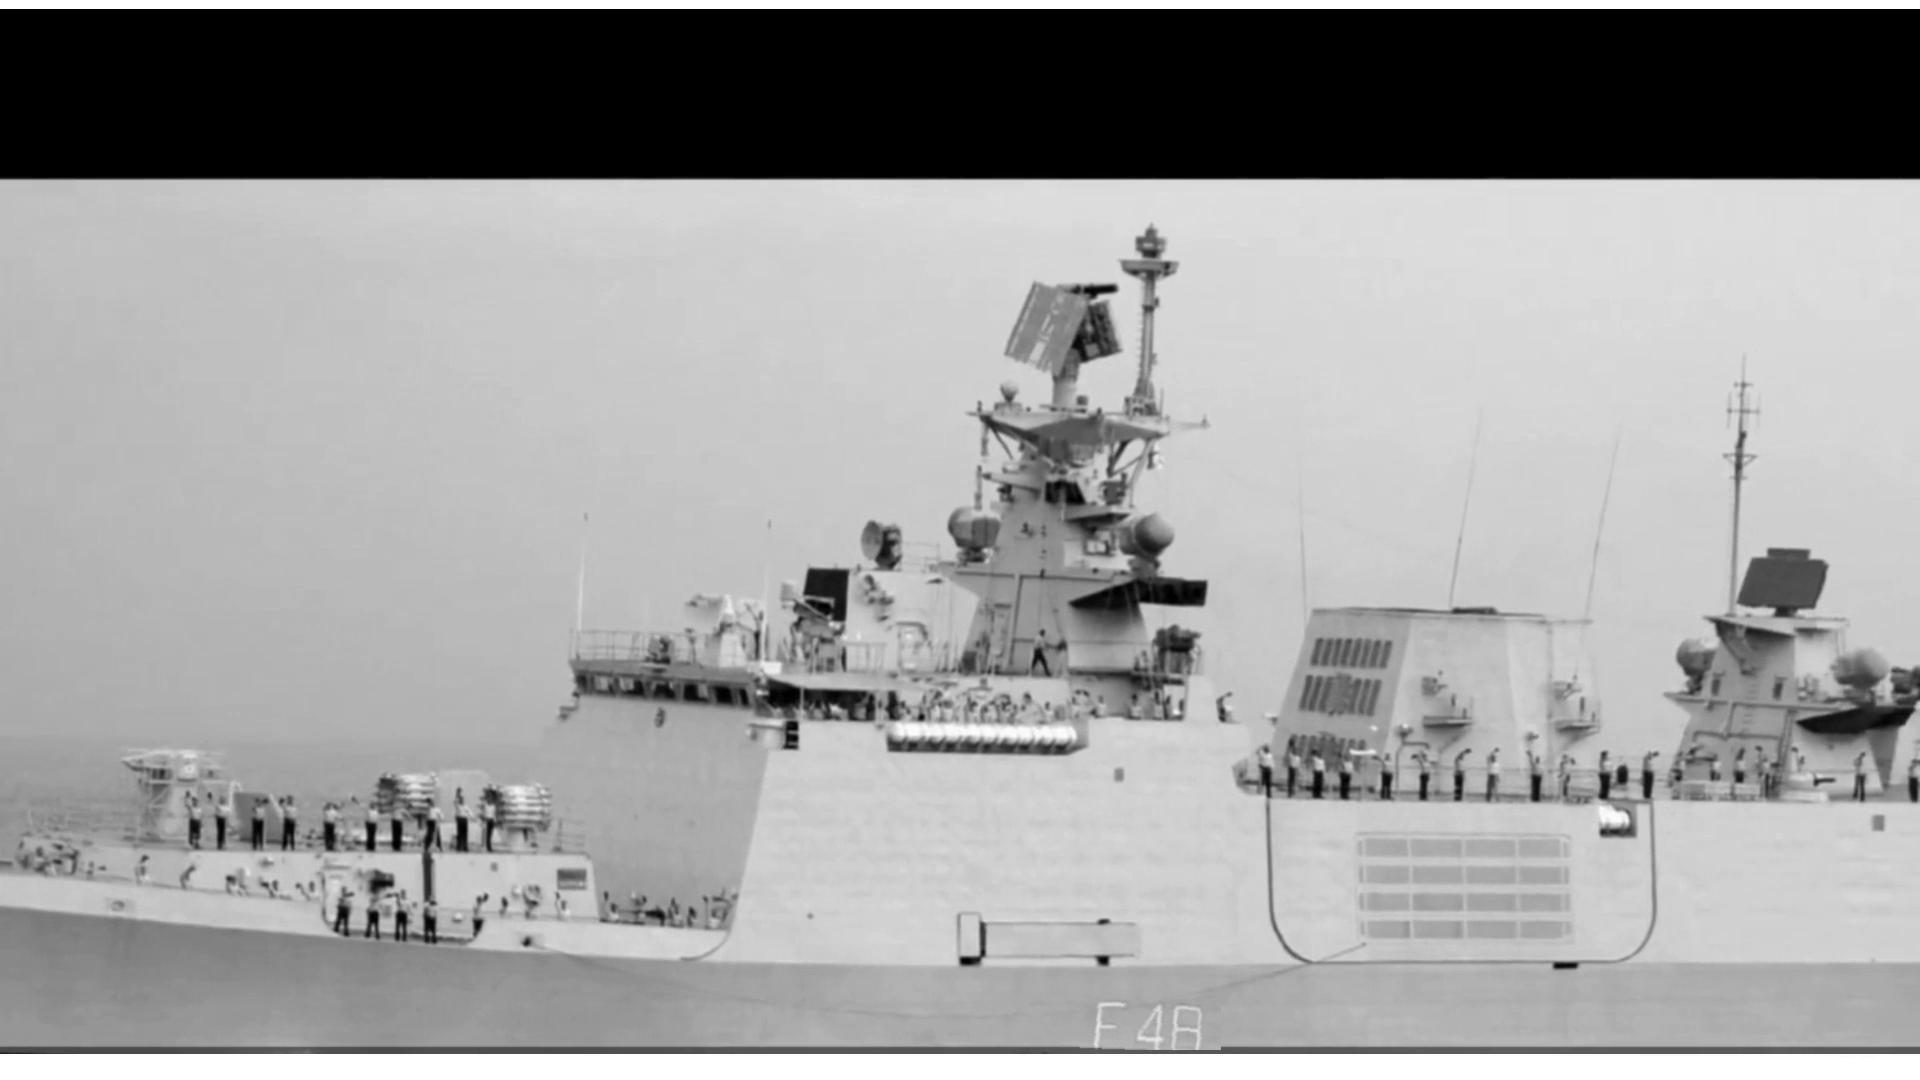OCR: (1063, 989, 1221, 1051)
